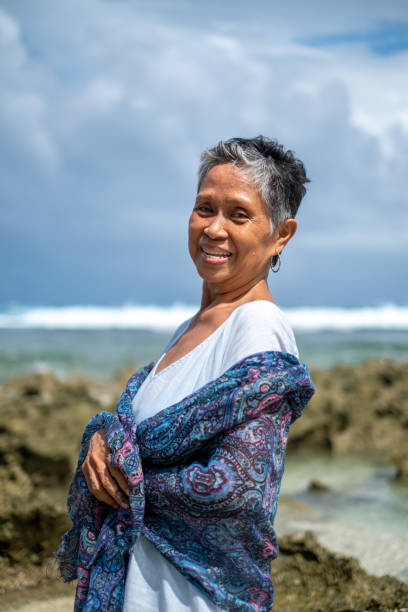face: (189, 187, 270, 289)
